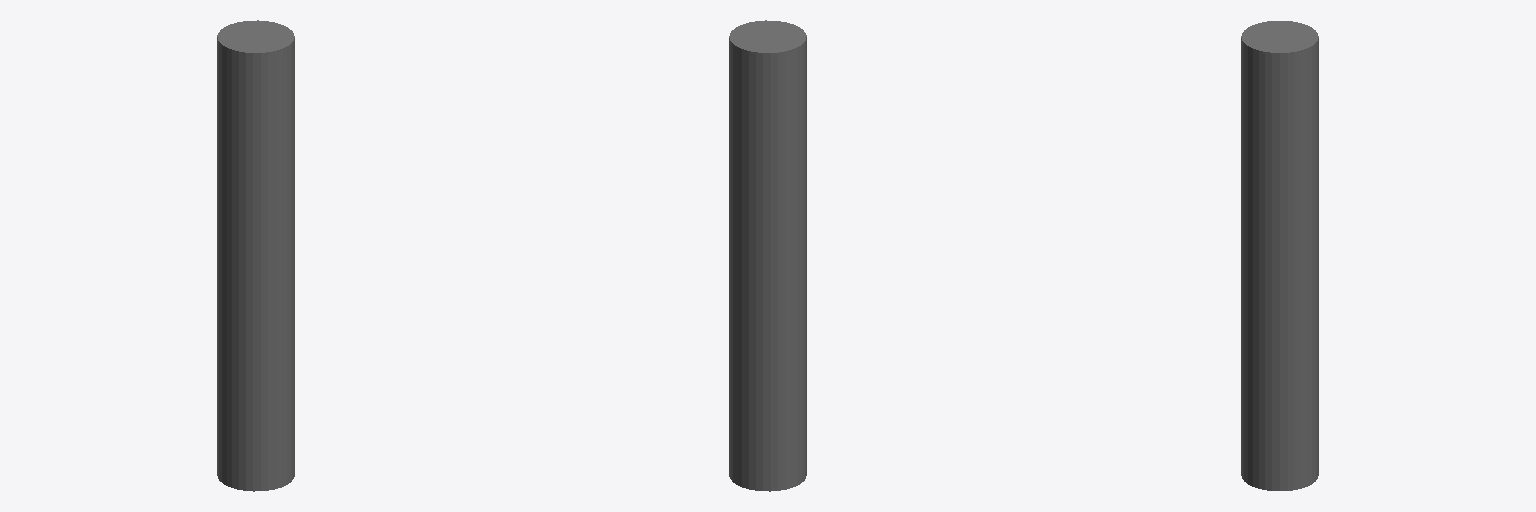
The robot description file, URDF, robot "generated_robot":
<?xml version="1.0"?>
<robot name="generated_robot">
  <mujoco >
    <compiler discardvisual="false"/>
  </mujoco>
  <link name="world"/>
  <joint name="world_to_body" type="fixed">
    <parent link="world"/>
    <child link="body"/>
    <origin xyz="0 0 1.0" rpy="0 0 0"/>
  </joint>
  <link name="body">
    <visual >
      <origin xyz="0 0 -0.5" rpy="0 0 0"/>
      <geometry >
        <cylinder radius="0.0800" length="1.0"/>
      </geometry>
      <material name="grey">
        <color rgba="0.5 0.5 0.5 1.0"/>
      </material>
    </visual>
    <inertial >
      <mass value="10.0"/>
      <inertia ixx="0.01" ixy="0" ixz="0" iyy="0.01" iyz="0" izz="0.01"/>
    </inertial>
  </link>
  <joint name="joint_0" type="revolute">
    <parent link="body"/>
    <child link="link_0"/>
    <origin xyz="0.0 0.0 0.3" rpy="0.0000 0.0000 0.0000"/>
    <axis xyz="0 0 1"/>
    <limit lower="-3.1416" upper="3.1730" effort="10" velocity="1"/>
  </joint>
  <link name="link_0">
    <inertial >
      <mass value="1.0"/>
      <inertia ixx="0.01" ixy="0" ixz="0" iyy="0.01" iyz="0" izz="0.01"/>
    </inertial>
  </link>
</robot>

--- What the picture shows (computed from the rendered views, not written in the file) ---
The picture shows the robot from 3 angles, left to right: view 1: azimuth 30°, elevation 25°; view 2: azimuth 150°, elevation 25°; view 3: azimuth 270°, elevation 25°; orthographic projection.
Model generated_robot with 3 links and 2 joints (1 revolute, 1 fixed), rooted at world, posed all joints at 0.
Links seen in each view (by area): view 1: body; view 2: body; view 3: body.
Boxes of the visible links, <box> form: body: <box>217,20,294,491</box>; body: <box>729,20,806,491</box>; body: <box>1241,21,1318,490</box>.
Size in the robot's own frame: 0.16 by 0.16 by 1 metres.
Geometry: primitives only (box / cylinder / sphere), no mesh files.
